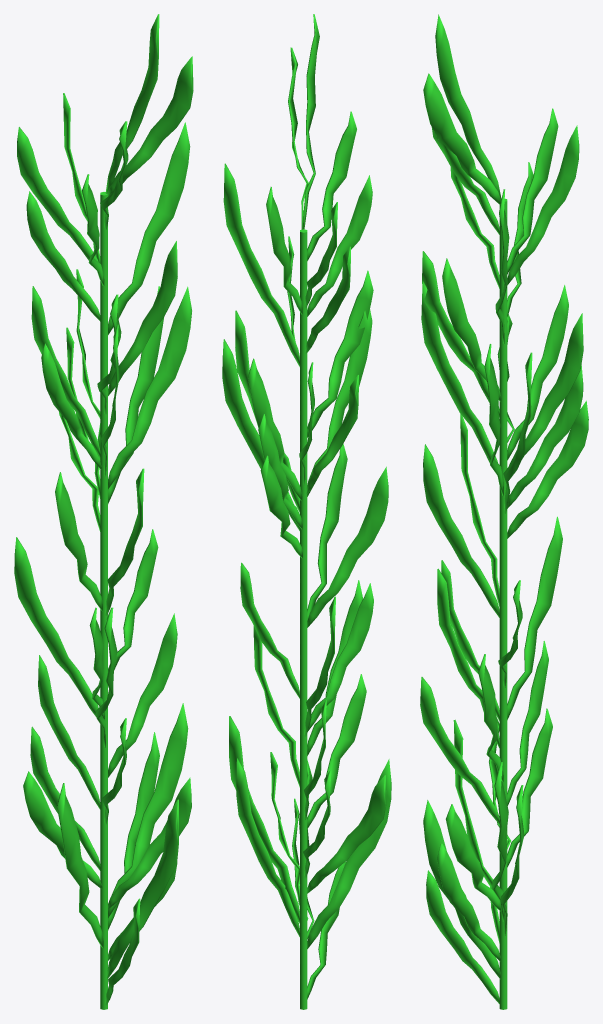
Rendered from kelp_2.fbx.
3 views of the same model, side by side, from view 1: azimuth 30°, elevation 25°; view 2: azimuth 150°, elevation 25°; view 3: azimuth 270°, elevation 25° (orthographic). The views are drawn at different scales.
Visible parts, largest first — view 1: Stem; view 2: Stem; view 3: Stem.
Part boxes in pixels (x1,y1,x2,y2): Stem: (14, 14, 193, 1009); Stem: (222, 14, 391, 1009); Stem: (420, 14, 588, 1009).
Size of the model in its own units: 215 by 1243 by 189.
